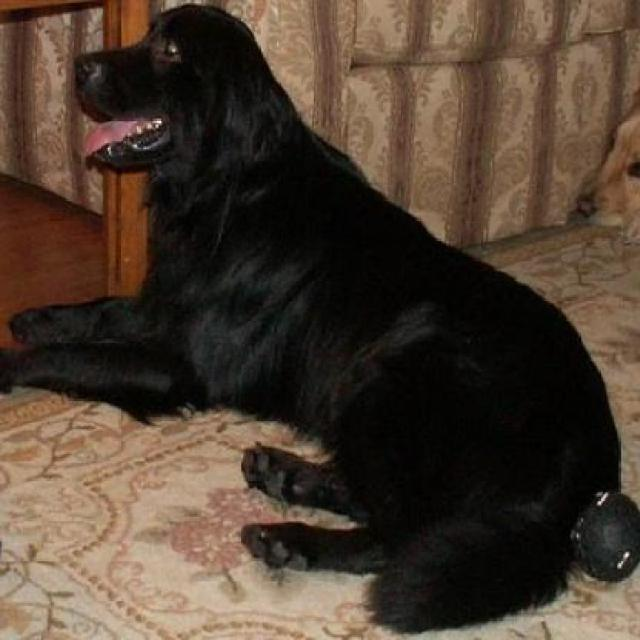Dog: (0, 1, 625, 638)
